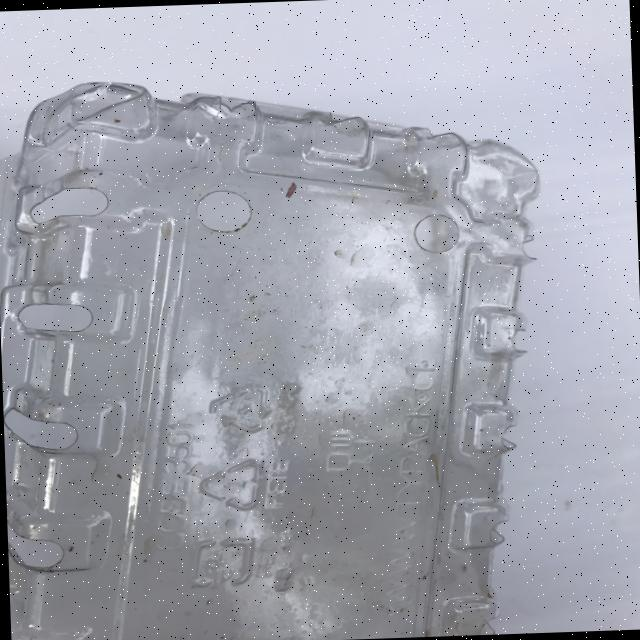plastic: (0, 64, 555, 640)
